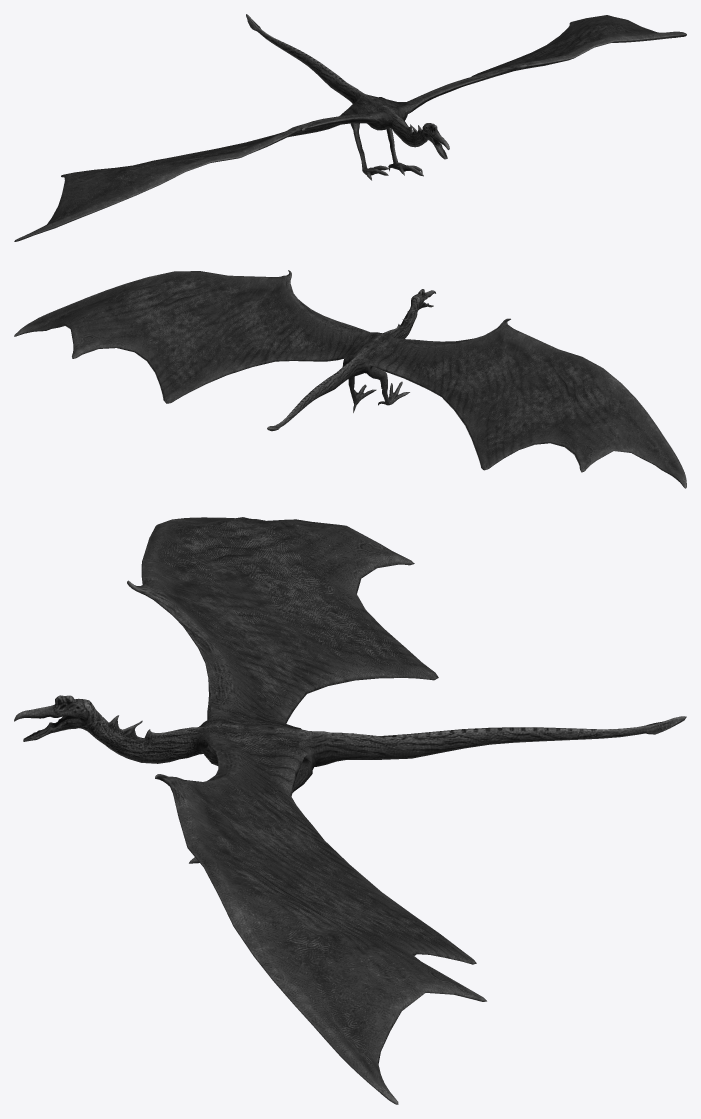
The model's file is Fellbeast_Animate_Grab_Glide_30.obj.
3 renders of one model, top to bottom at view 1: azimuth 30°, elevation 25°; view 2: azimuth 150°, elevation 25°; view 3: azimuth 270°, elevation 25°, orthographic. The views are drawn at different scales.
Parts seen in each view (by area): view 1: Fellbeast; view 2: Fellbeast; view 3: Fellbeast.
Boxes of the visible parts, x1,y1,x2,y2 form: Fellbeast: [14, 14, 686, 241]; Fellbeast: [14, 270, 686, 488]; Fellbeast: [14, 517, 686, 1104].
Bounding box in the file's own units: 9.22 × 1.33 × 4.39.
